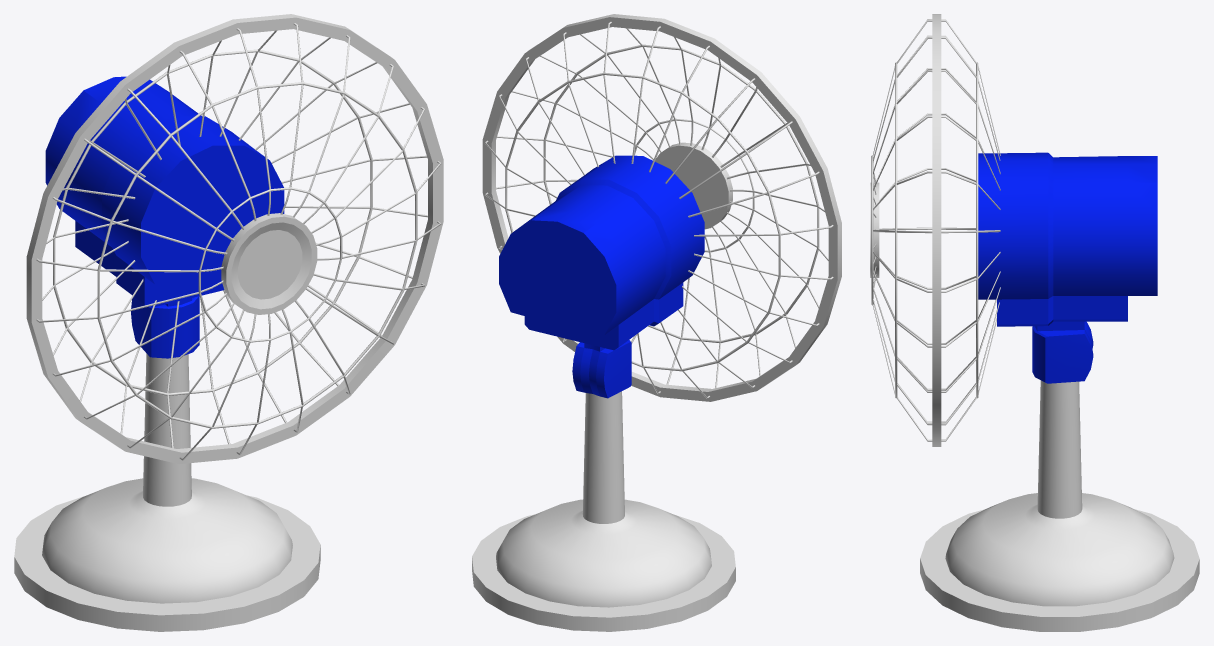
Rendered from DeskFan.fbx.
3 views of the same model, side by side, from view 1: azimuth 30°, elevation 25°; view 2: azimuth 150°, elevation 25°; view 3: azimuth 270°, elevation 25° (orthographic). The views are drawn at different scales.
Parts seen in each view (by area): view 1: Stand, Motor, Grill_2, Grill_1; view 2: Stand, Motor, Grill_2, Grill_1; view 3: Stand, Motor, Grill_1, Grill_2.
Boxes of the visible parts, x1,y1,x2,y2 form: Stand: (14, 353, 320, 631); Motor: (45, 76, 284, 358); Grill_2: (26, 14, 443, 464); Grill_1: (36, 23, 441, 460); Stand: (472, 391, 735, 631); Motor: (499, 155, 704, 398); Grill_2: (482, 14, 841, 401); Grill_1: (484, 21, 833, 398); Stand: (920, 380, 1199, 631); Motor: (978, 152, 1157, 383); Grill_1: (871, 19, 1000, 441); Grill_2: (870, 14, 941, 446).
Bounding box in the file's own units: 30 × 41.42 × 22.85.
